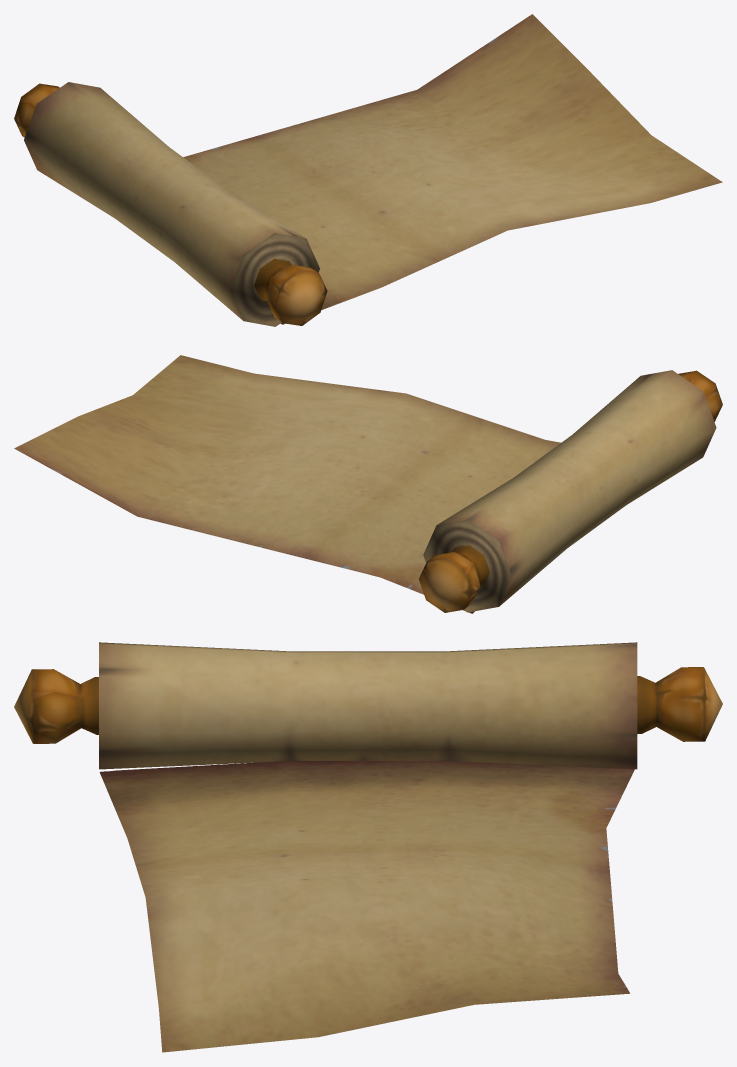
Rendered from roll_open_004.fbx.
The picture shows the model from 3 angles, top to bottom: view 1: azimuth 30°, elevation 25°; view 2: azimuth 150°, elevation 25°; view 3: azimuth 270°, elevation 25°; orthographic projection. The views are drawn at different scales.
Visible parts, largest first — view 1: roll; view 2: roll; view 3: roll.
Part boxes in pixels (x1,y1,x2,y2): roll: (14, 14, 722, 326); roll: (14, 355, 722, 613); roll: (14, 642, 722, 1052).
Size of the model in its own units: 36.96 by 6.44 by 33.64.
